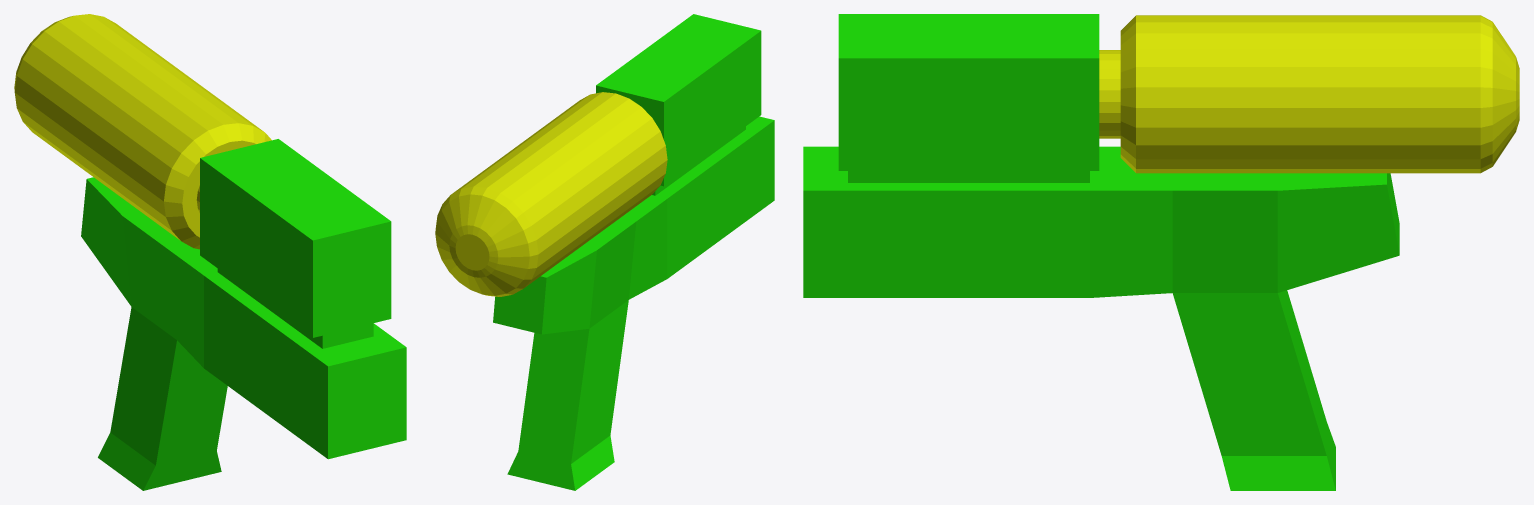
Rendered from Watergun.fbx.
The picture shows the model from 3 angles, left to right: view 1: azimuth 30°, elevation 25°; view 2: azimuth 150°, elevation 25°; view 3: azimuth 270°, elevation 25°; orthographic projection. The views are drawn at different scales.
Parts seen in each view (by area): view 1: Gun, Cylinder; view 2: Gun, Cylinder; view 3: Gun, Cylinder.
Part boxes in pixels (bbox=[...]): Gun: bbox=[81, 139, 406, 490]; Cylinder: bbox=[14, 14, 271, 249]; Gun: bbox=[493, 14, 774, 490]; Cylinder: bbox=[435, 92, 667, 296]; Gun: bbox=[803, 14, 1399, 490]; Cylinder: bbox=[1099, 15, 1519, 173].
Size of the model in its own units: 194 by 603 by 876.
